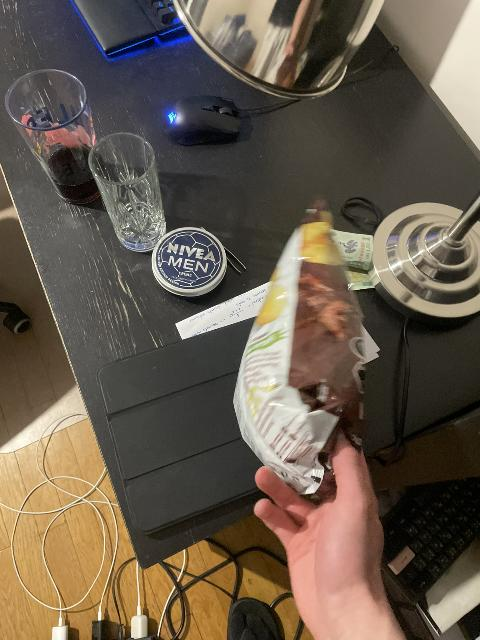Lays Beef Grilled Ribs 125g: (235, 201, 367, 494)
